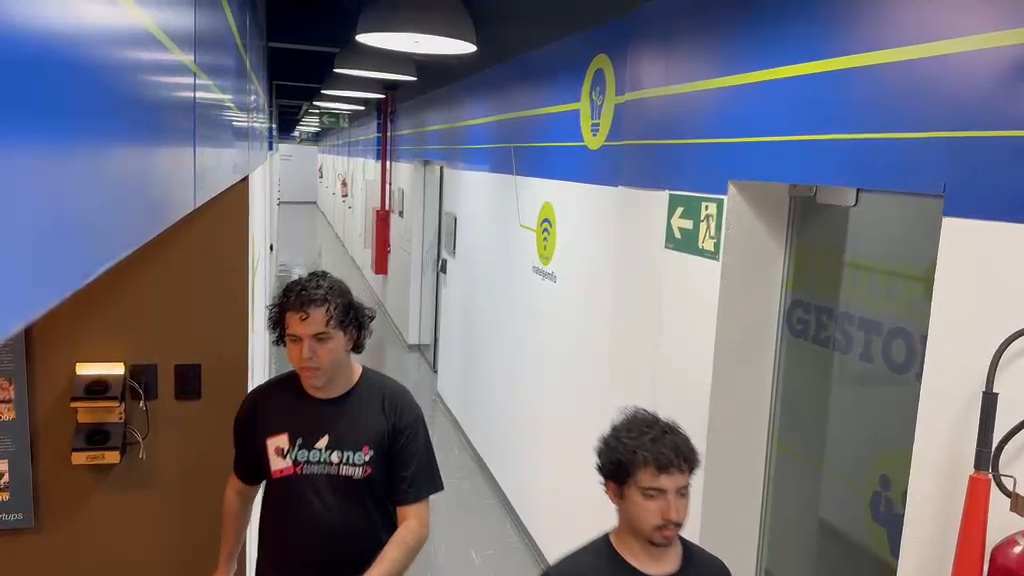person: (212, 270, 445, 573), (542, 405, 731, 575)
